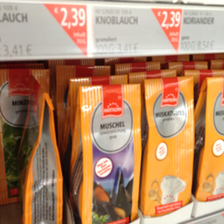spices: (69, 83, 142, 224), (142, 76, 195, 219), (16, 74, 66, 224)
